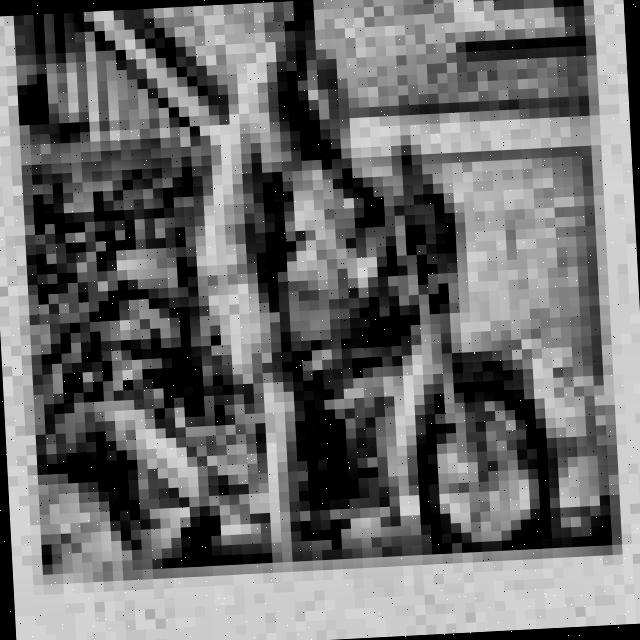mopeds: (102, 138, 574, 576)
